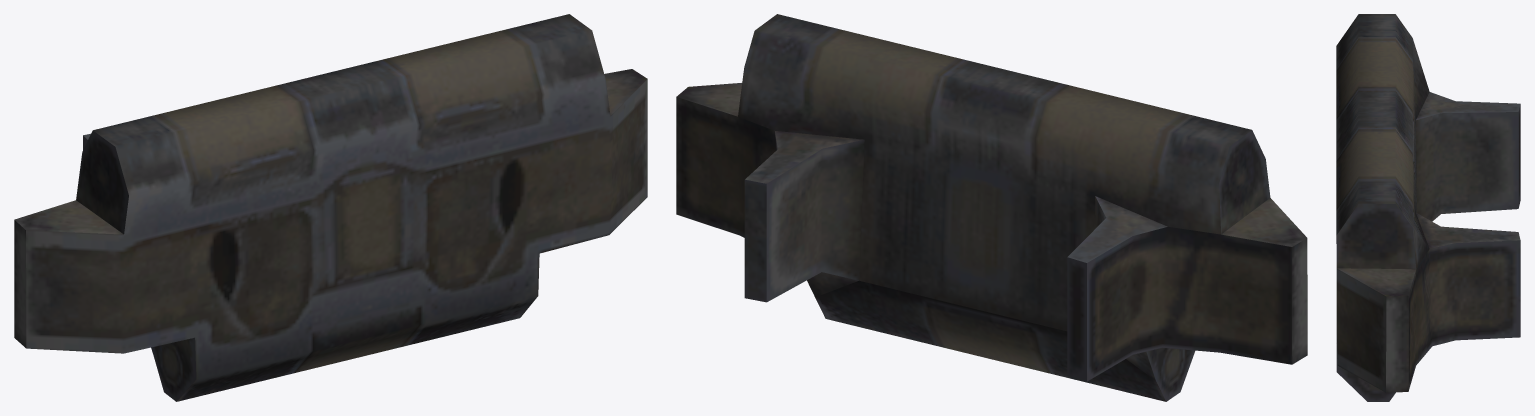
The picture shows the model from 3 angles, left to right: view 1: azimuth 30°, elevation 25°; view 2: azimuth 150°, elevation 25°; view 3: azimuth 270°, elevation 25°; orthographic projection. The views are drawn at different scales.
Parts seen in each view (by area): view 1: set_0_group_0; view 2: set_0_group_0; view 3: set_0_group_0.
Boxes of the visible parts, x1=… form: set_0_group_0: x1=14, y1=14, x2=647, y2=401; set_0_group_0: x1=676, y1=14, x2=1307, y2=401; set_0_group_0: x1=1336, y1=14, x2=1520, y2=401.
Bounding box in the file's own units: 0.3578 × 0.1517 × 0.1125.
1 material, 1 textured.
